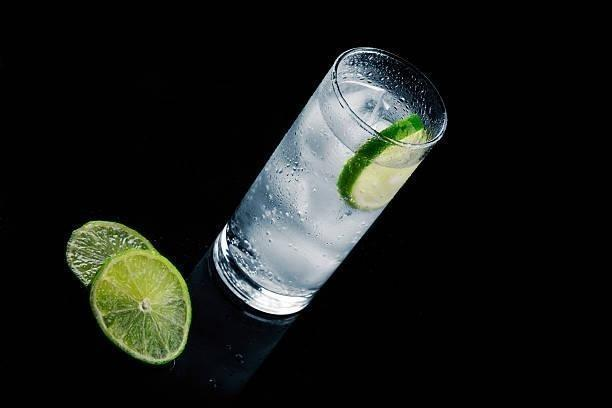glass-normal: (202, 45, 449, 318)
